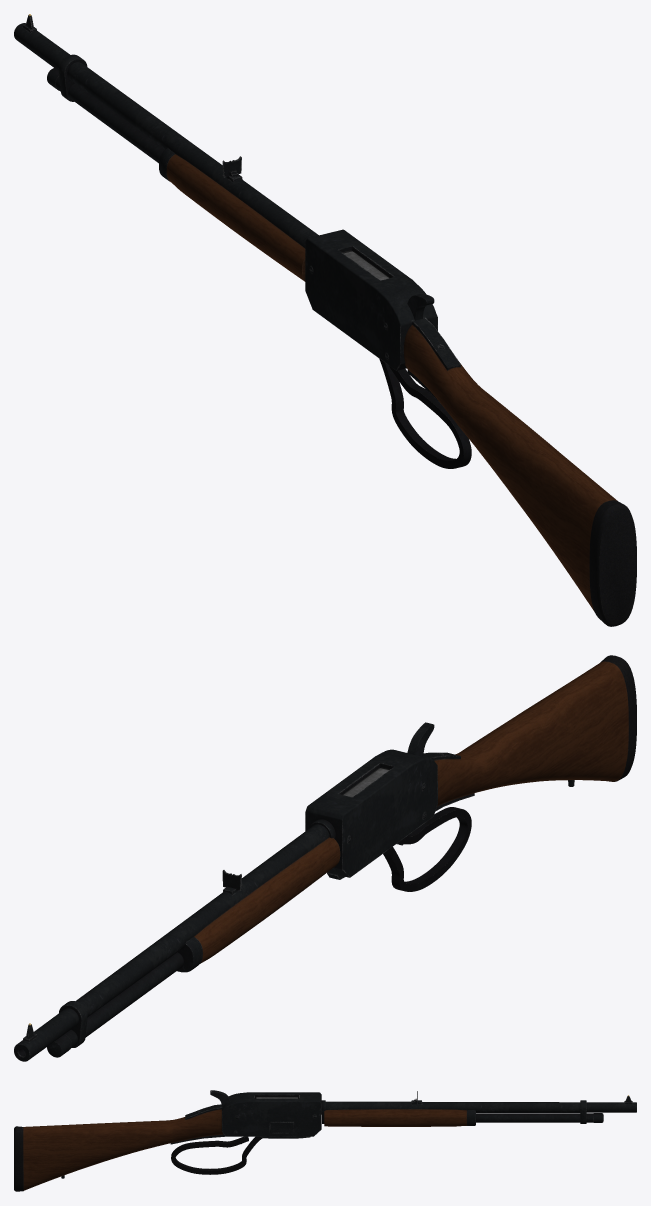
Rendered from rifle.glb.
3 renders of one model, top to bottom at view 1: azimuth 30°, elevation 25°; view 2: azimuth 150°, elevation 25°; view 3: azimuth 270°, elevation 25°, orthographic. The views are drawn at different scales.
Parts seen in each view (by area): view 1: rifle_body, rifle_lever; view 2: rifle_body, rifle_lever; view 3: rifle_body, rifle_lever, rifle_hammer.
Boxes of the visible parts, left/top/right/bottom form: rifle_body: left=14, top=14, right=636, bottom=626; rifle_lever: left=379, top=359, right=471, bottom=468; rifle_body: left=14, top=655, right=636, bottom=1061; rifle_lever: left=327, top=807, right=471, bottom=891; rifle_body: left=14, top=1091, right=636, bottom=1191; rifle_lever: left=171, top=1136, right=310, bottom=1174; rifle_hammer: left=210, top=1090, right=230, bottom=1106.
Size of what is drawn, in the model's own units: 0.0431 by 0.1952 by 1.11.
Materials: 1 (1 with a texture image).
